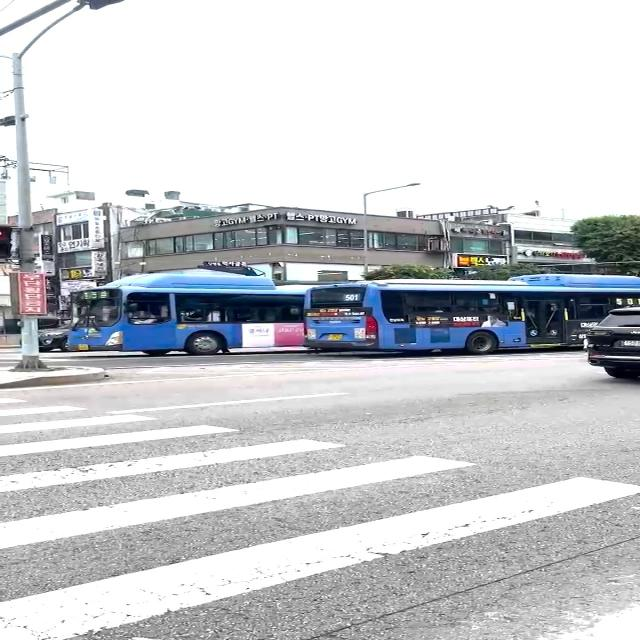building: (90, 202, 501, 262)
car: (304, 276, 634, 350), (77, 277, 295, 355), (582, 306, 639, 378)
